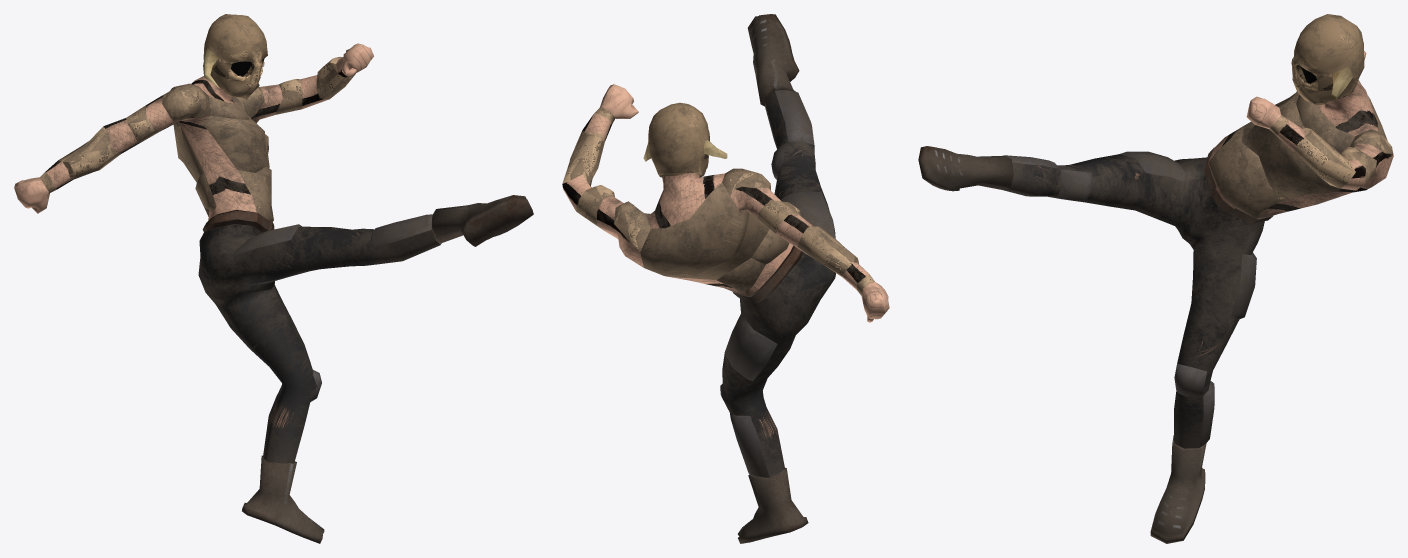
Rendered from Anim_ataque_f1_npc1.0019.obj.
3 renders of one model, left to right at view 1: azimuth 30°, elevation 25°; view 2: azimuth 150°, elevation 25°; view 3: azimuth 270°, elevation 25°, orthographic. The views are drawn at different scales.
Visible parts, largest first — view 1: NPC2; view 2: NPC2; view 3: NPC2.
Boxes of the visible parts, x1,y1,x2,y2 form: NPC2: [14, 14, 533, 543]; NPC2: [562, 14, 889, 543]; NPC2: [918, 14, 1393, 543].
Bounding box in the file's own units: 6.44 × 8.98 × 7.44.
